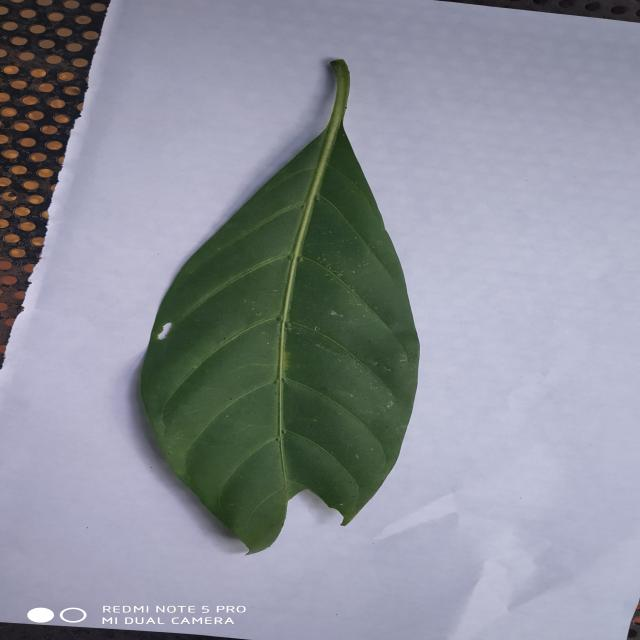nooni: (140, 60, 420, 552)
